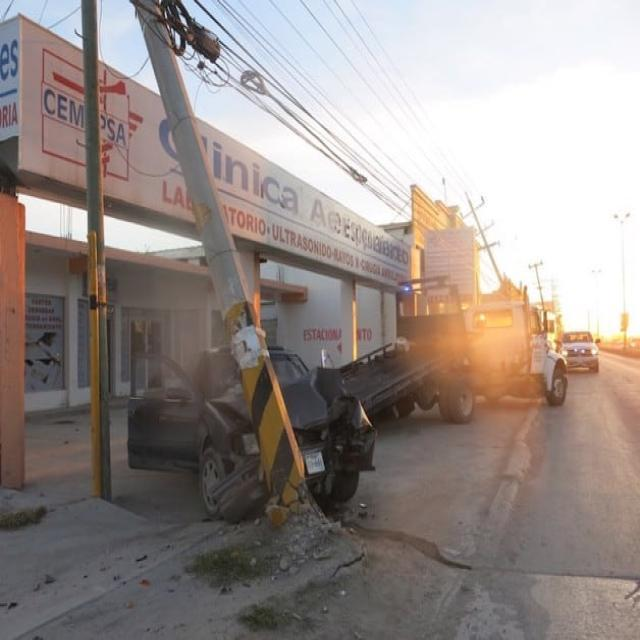light_pole: (130, 0, 324, 521), (81, 0, 117, 502), (458, 192, 503, 282), (613, 212, 631, 350), (528, 260, 548, 312)
